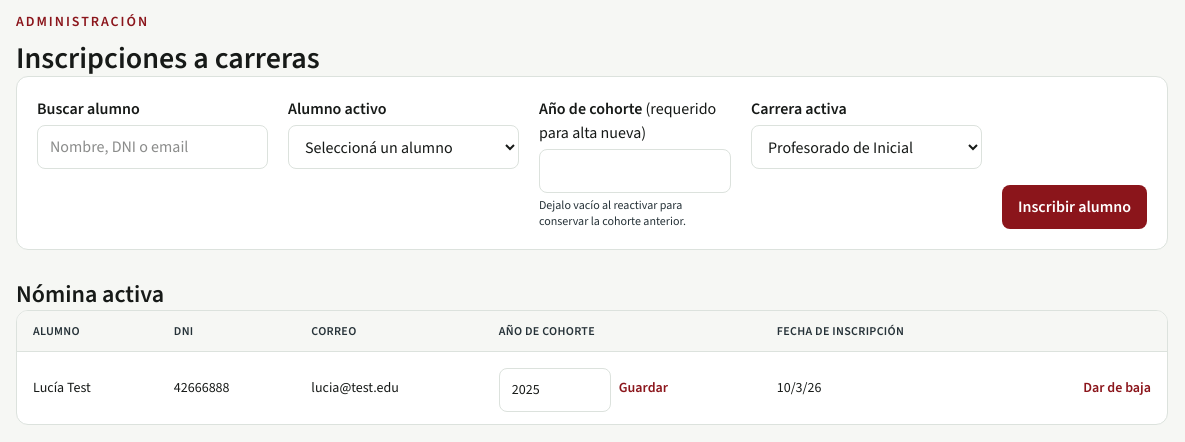
CareerEnrollmentsView › keeps only the newest enrollment response after rapid career changes
Select "Profesorado de Primaria" in the dropdown labelled "Carrera activa" at (866,147), box [751,125,982,169]
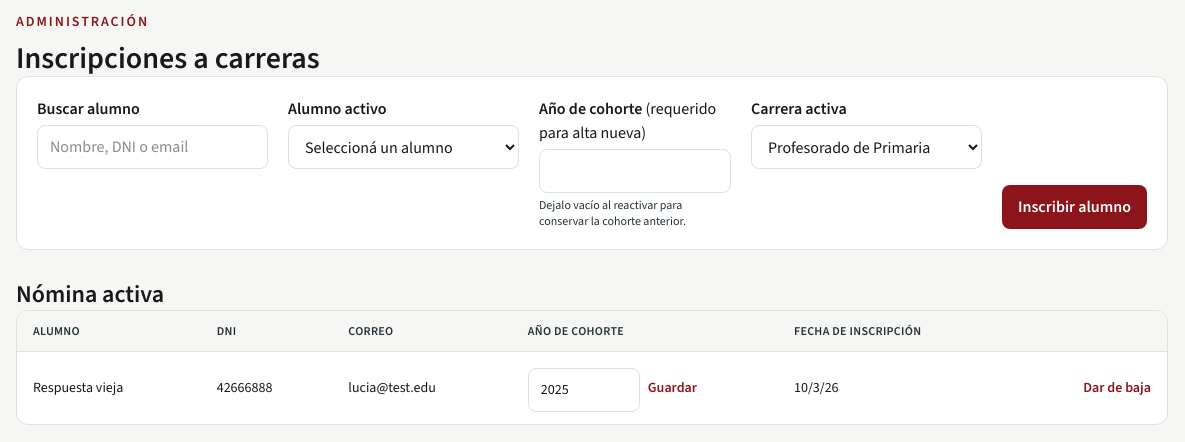
Select "Profesorado de Inicial" in the dropdown labelled "Carrera activa" at (866,147), box [751,125,982,169]
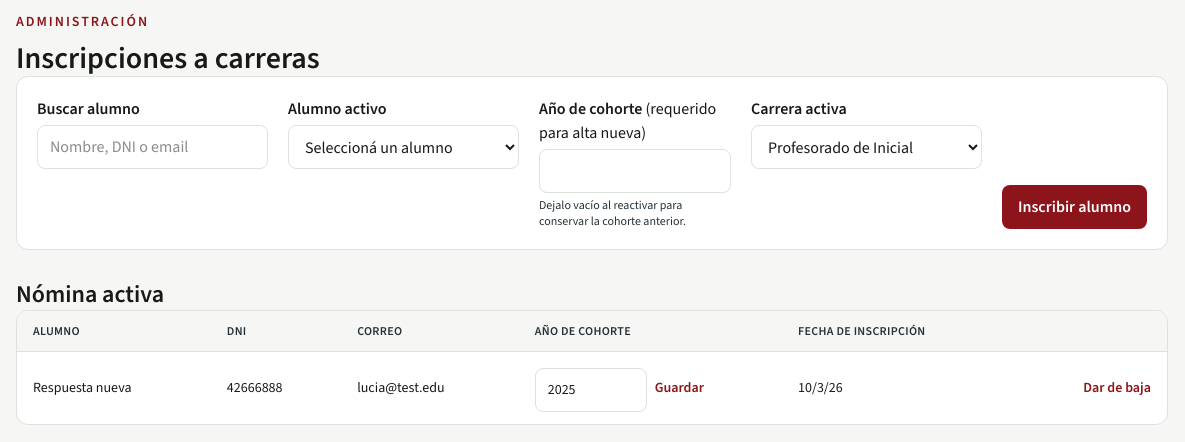
expect the text "Respuesta nueva" is shown: met, box [17,352,211,424]
expect the text "Respuesta vieja" is gone: met
